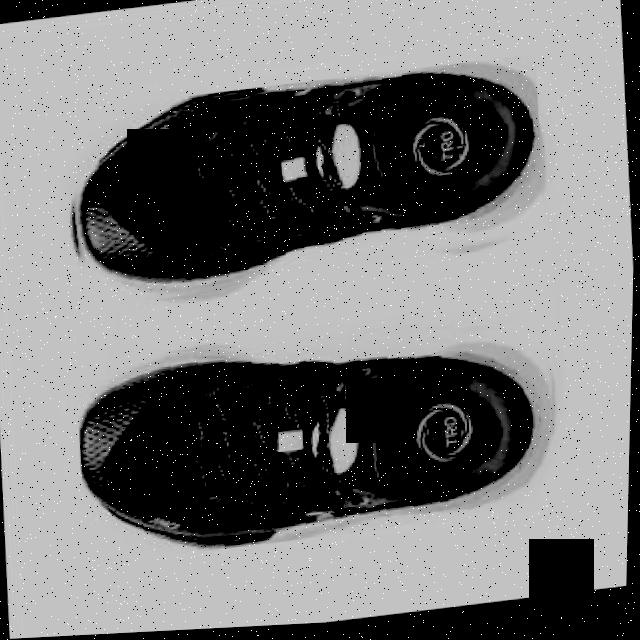shoe: (74, 308, 567, 567), (58, 59, 550, 315)
